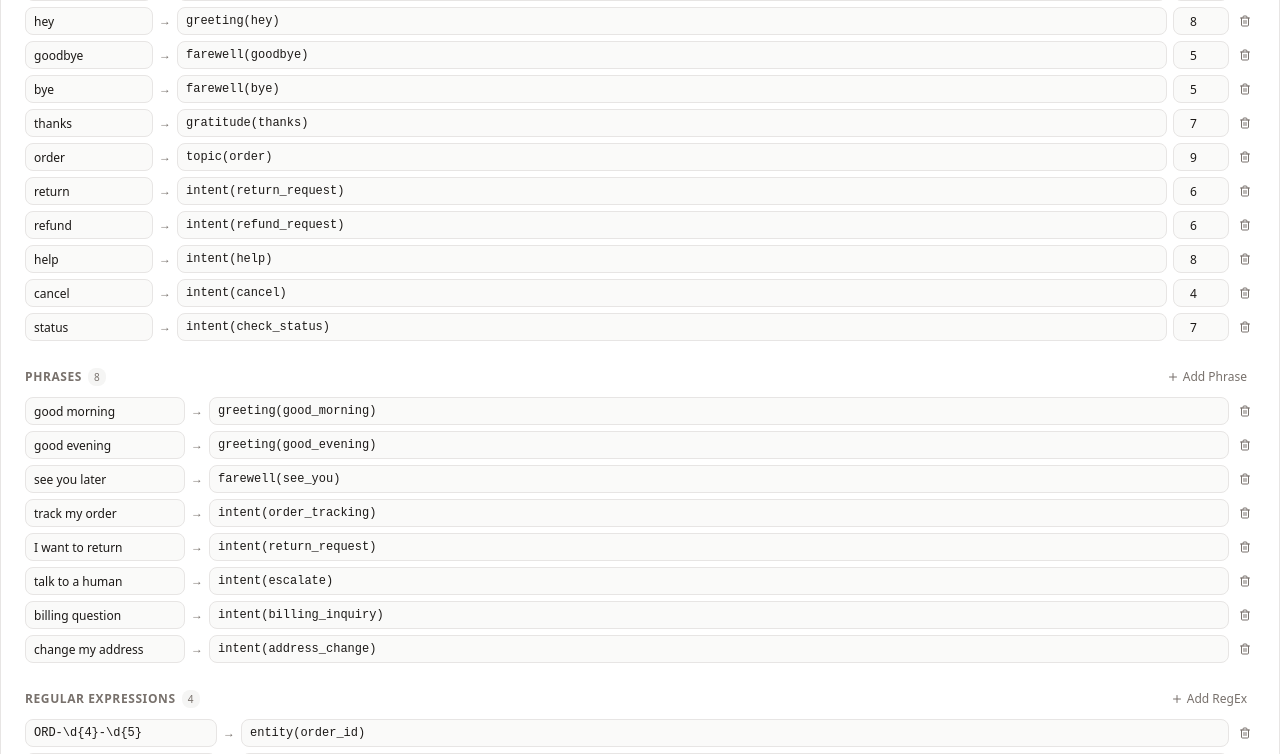
Dictionary Editor › clicking add phrase button adds a new phrase row
The image size is (1280, 754).
(page scrolled)
Click the button with test id "add-phrases-btn". click: (1207, 377)
box: [1159,365,1255,389]
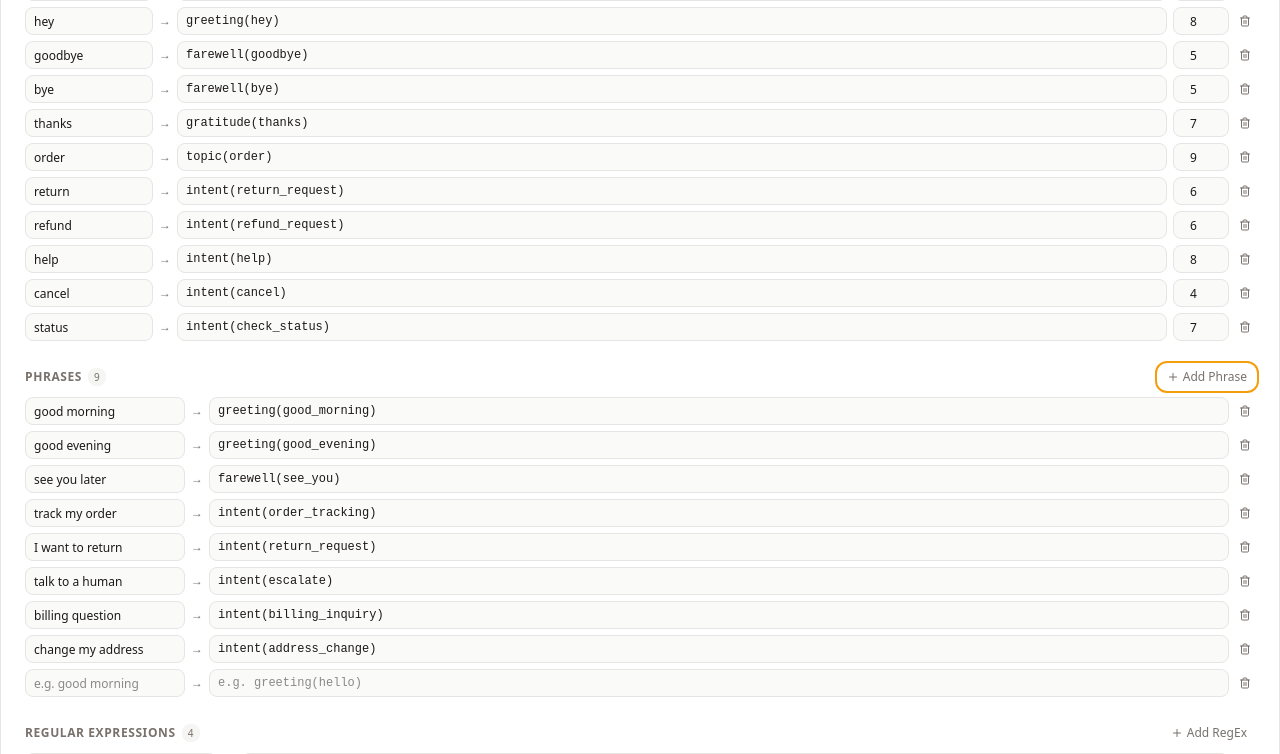
Check: the number of elements with test id "phrase-row" is 9
